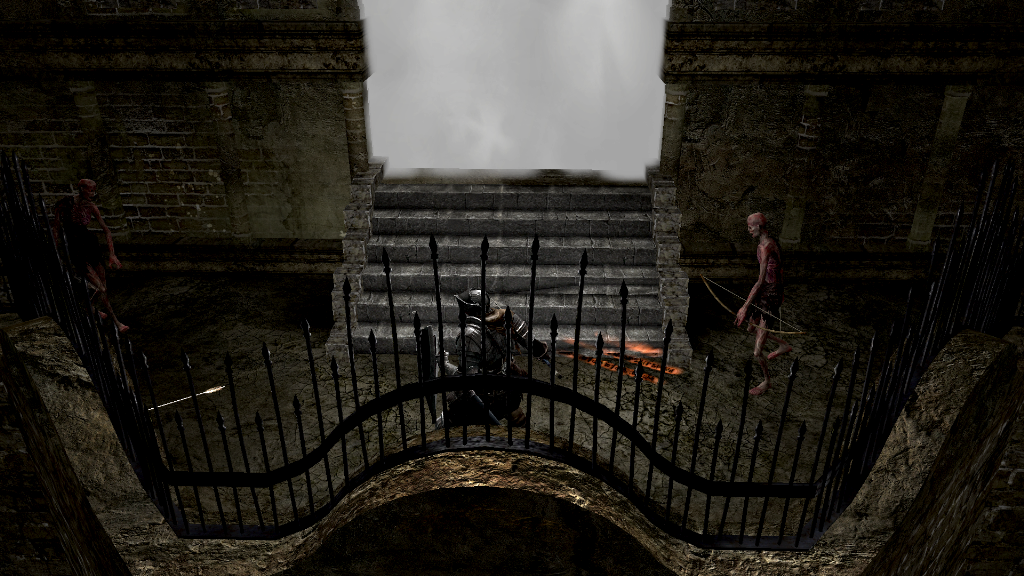hollow: (53, 178, 130, 332), (732, 211, 794, 396)
player: (417, 289, 550, 430)
